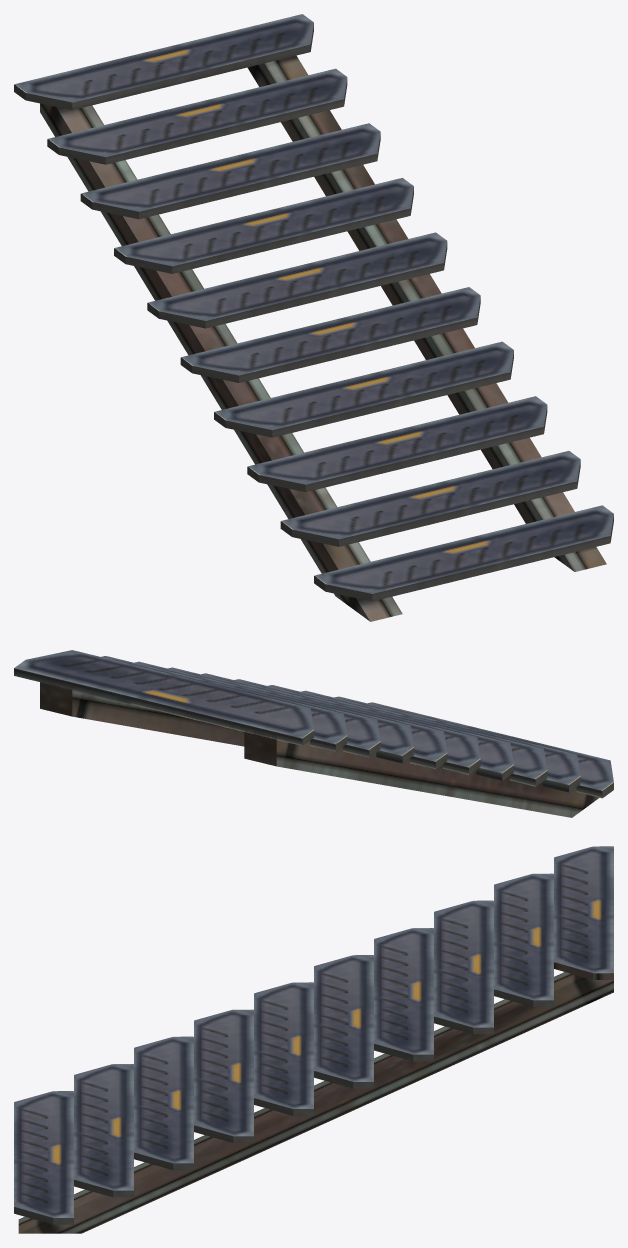
Rendered from MO_METAL_STAIRS_04.fbx.
The picture shows the model from 3 angles, top to bottom: view 1: azimuth 30°, elevation 25°; view 2: azimuth 150°, elevation 25°; view 3: azimuth 270°, elevation 25°; orthographic projection. The views are drawn at different scales.
Parts seen in each view (by area): view 1: MO_METAL STAIRS_04; view 2: MO_METAL STAIRS_04; view 3: MO_METAL STAIRS_04.
Boxes of the visible parts, x1,y1,x2,y2 form: MO_METAL STAIRS_04: [14, 14, 613, 621]; MO_METAL STAIRS_04: [14, 650, 613, 817]; MO_METAL STAIRS_04: [14, 846, 613, 1233].
Size of the model in its own units: 2 by 2 by 4.
